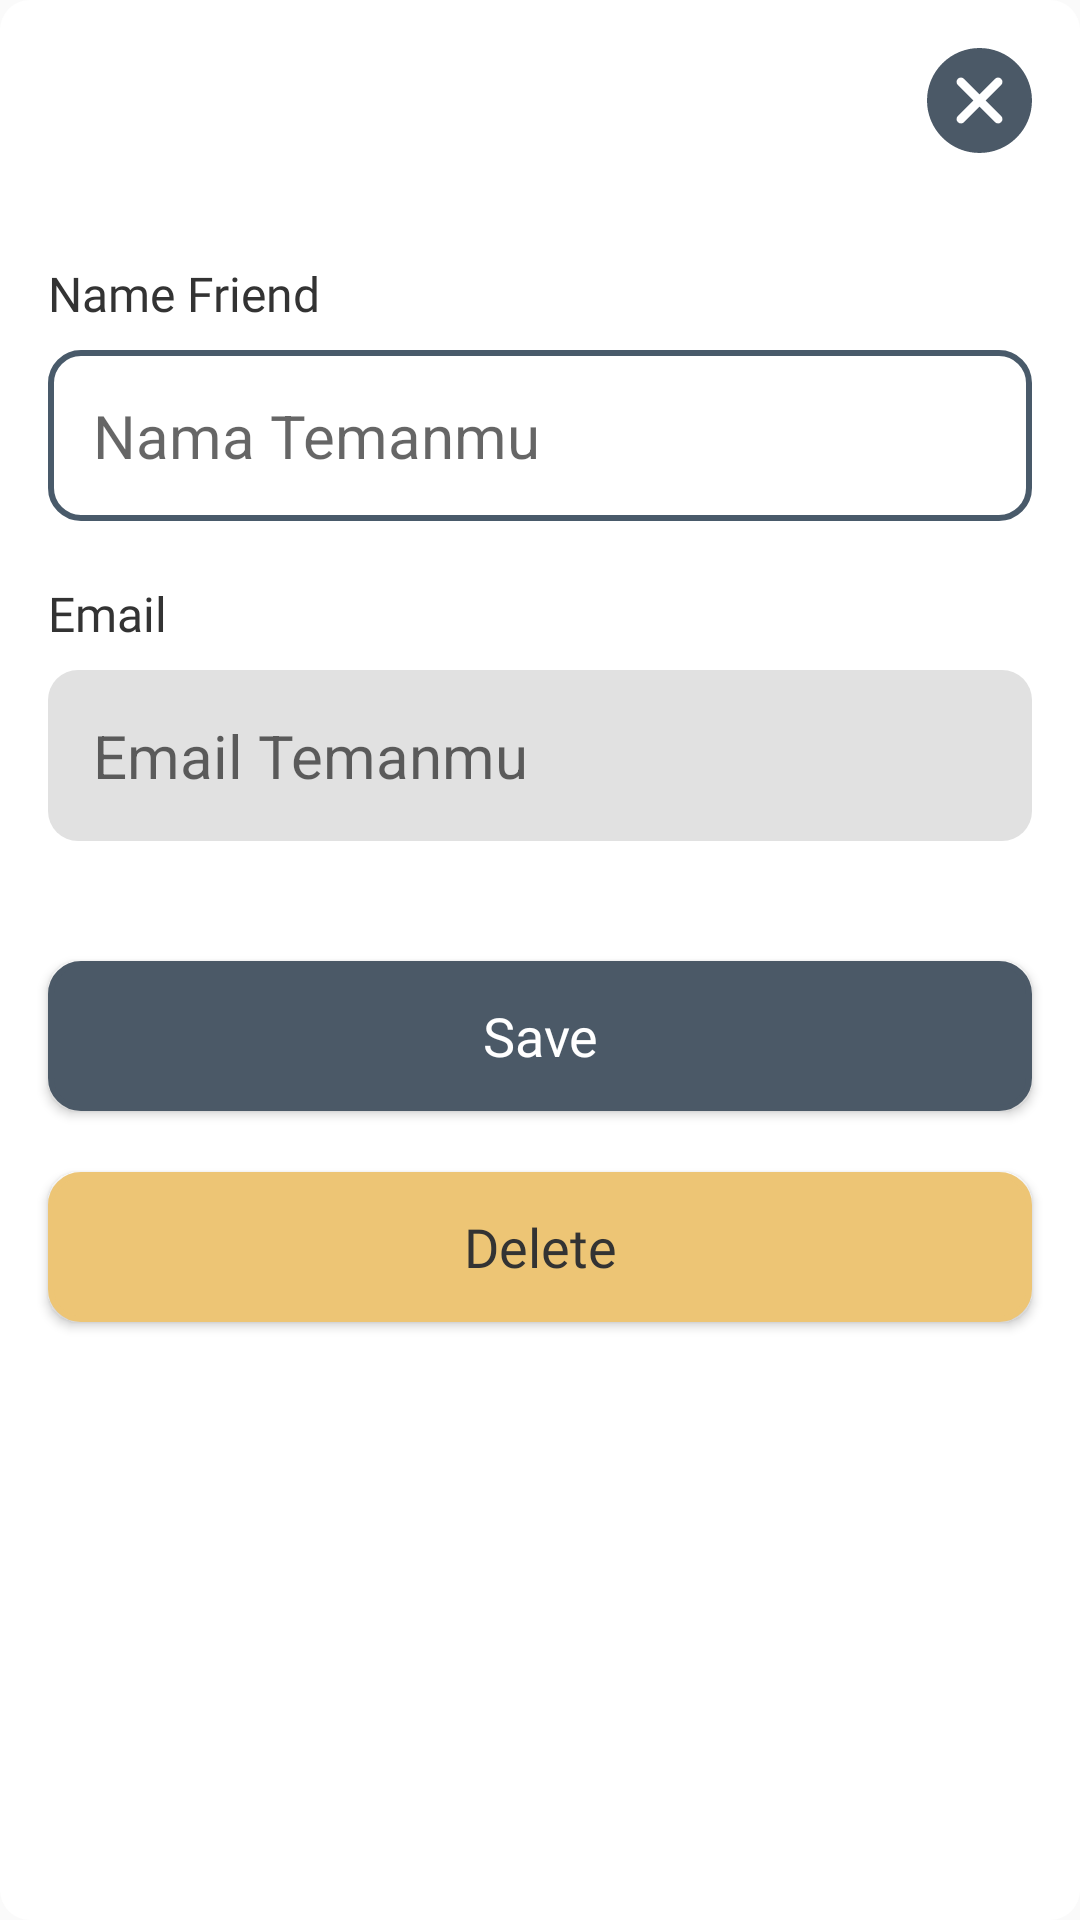

Icons on this 1080*1920 Android screen, each with its box as (x1, y1, x2, y2):
close: (927, 48, 1032, 153)
